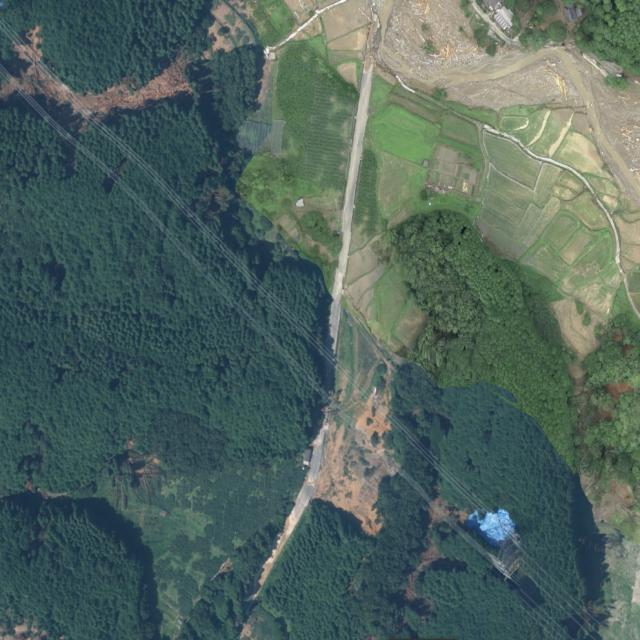landslide: (14, 34, 185, 117), (314, 417, 396, 536)
